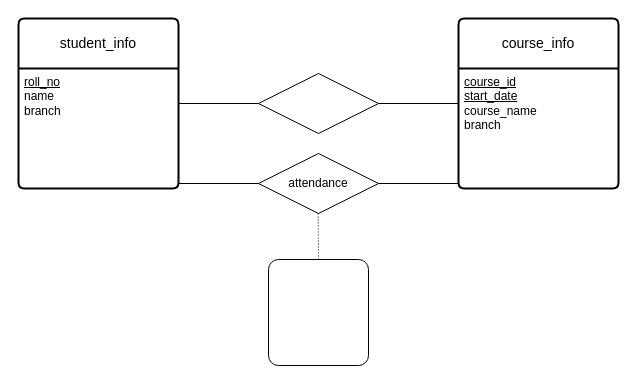
This 636x383 diagram has some shape labels left out. Here are the shapes that lost their labels. From the top down, the centre of each, then its label:
At pixel 318 103: "taken".
At pixel 318 312: "date isPresent Reason".
